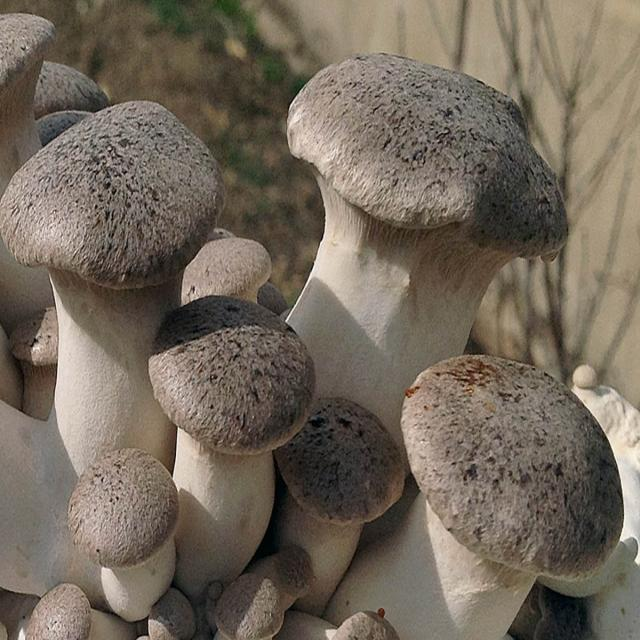Pleurotus eryngii: (279, 49, 569, 407), (0, 103, 220, 433), (372, 357, 625, 640), (149, 299, 315, 581), (266, 400, 405, 598), (71, 450, 181, 621)
